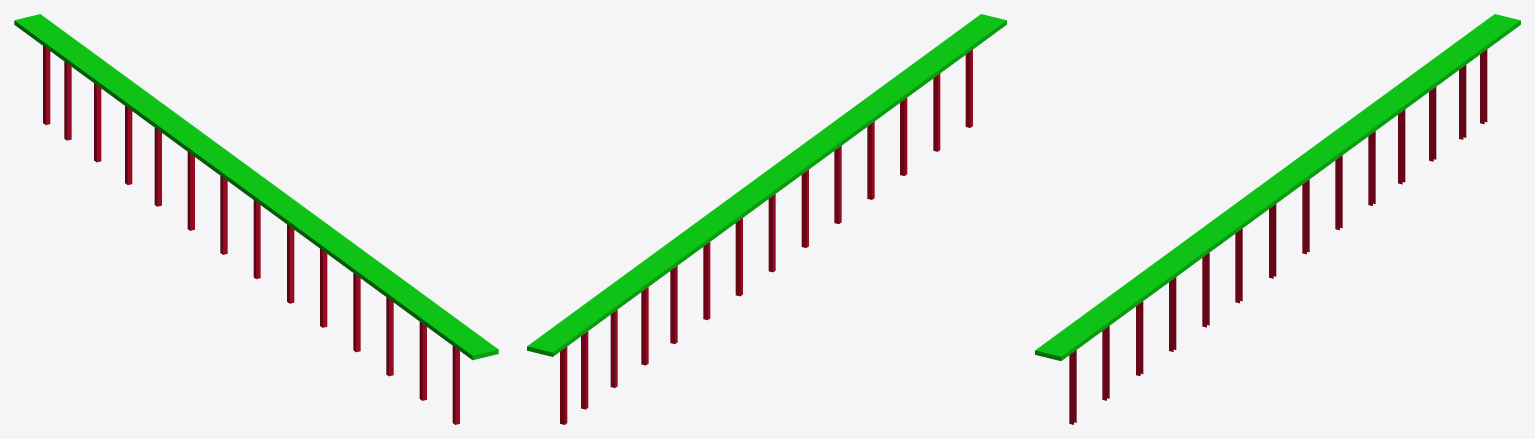
The model's file is Rideau_Michel_2.fbx.
The picture shows the model from 3 angles, left to right: view 1: azimuth 30°, elevation 25°; view 2: azimuth 150°, elevation 25°; view 3: azimuth 330°, elevation 25°; orthographic projection.
Parts seen in each view (by area): view 1: Rideau_Plancher; view 2: Rideau_Plancher; view 3: Rideau_Plancher.
Part boxes in pixels (x1,y1,x2,y2): Rideau_Plancher: (14,14,498,424); Rideau_Plancher: (527,14,1006,424); Rideau_Plancher: (1035,14,1520,424).
Size of the model in its own units: 143 by 473 by 4366.
